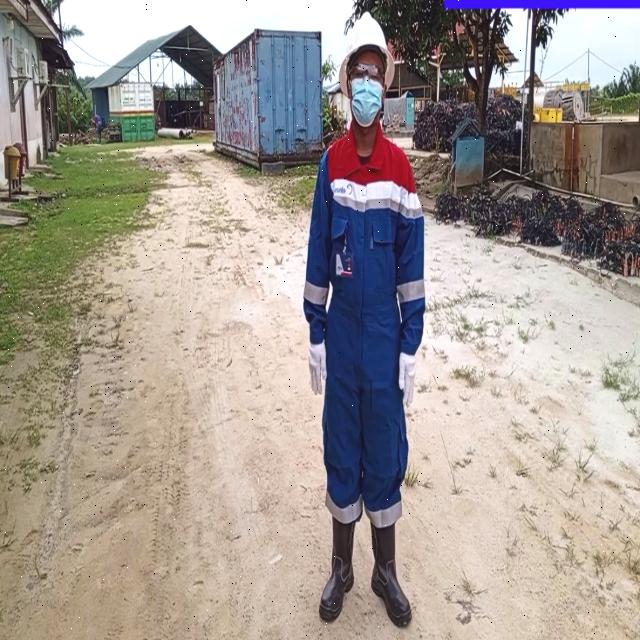Gloves: (396, 356, 417, 407), (309, 338, 325, 396)
Hardhat: (334, 13, 396, 90)
Mask: (350, 79, 382, 128)
Overall Suit: (302, 134, 426, 521)
Safety Boots: (371, 514, 412, 630), (318, 522, 355, 620)
